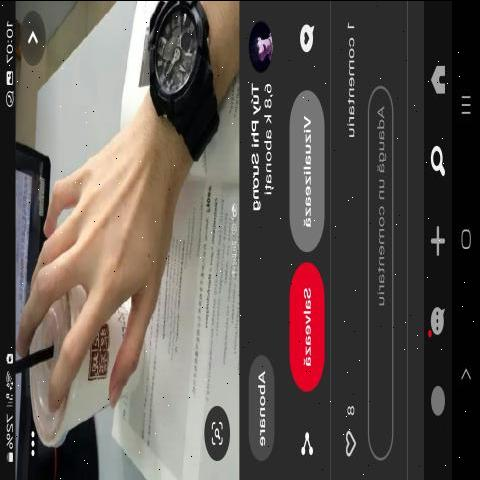Hands: (19, 101, 213, 457)
